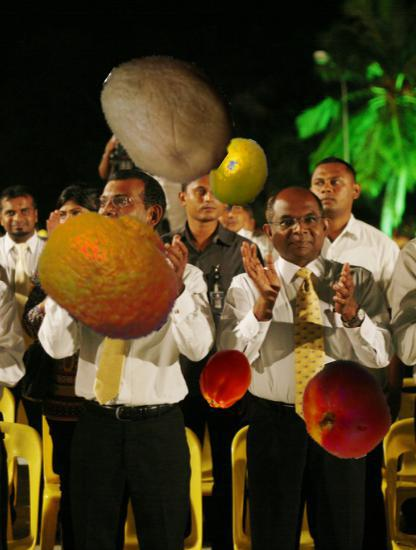Mandarine: (38, 200, 186, 348)
Maracuja: (202, 137, 276, 211)
Nectarine: (295, 360, 396, 461)
Papaya: (96, 44, 239, 187)
Tomato: (194, 347, 257, 410)
